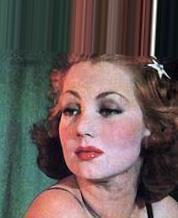face: (62, 90, 125, 163)
